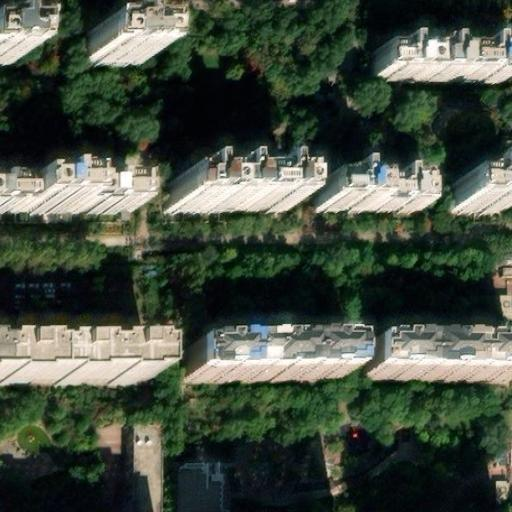building: (182, 351, 342, 384), (359, 351, 507, 384), (369, 49, 501, 83), (164, 177, 282, 215), (39, 347, 149, 387), (319, 178, 412, 215), (174, 461, 224, 512), (138, 422, 165, 512), (450, 168, 500, 215), (87, 38, 148, 71), (31, 182, 82, 213), (0, 347, 39, 387), (82, 189, 134, 213), (0, 45, 8, 72)
